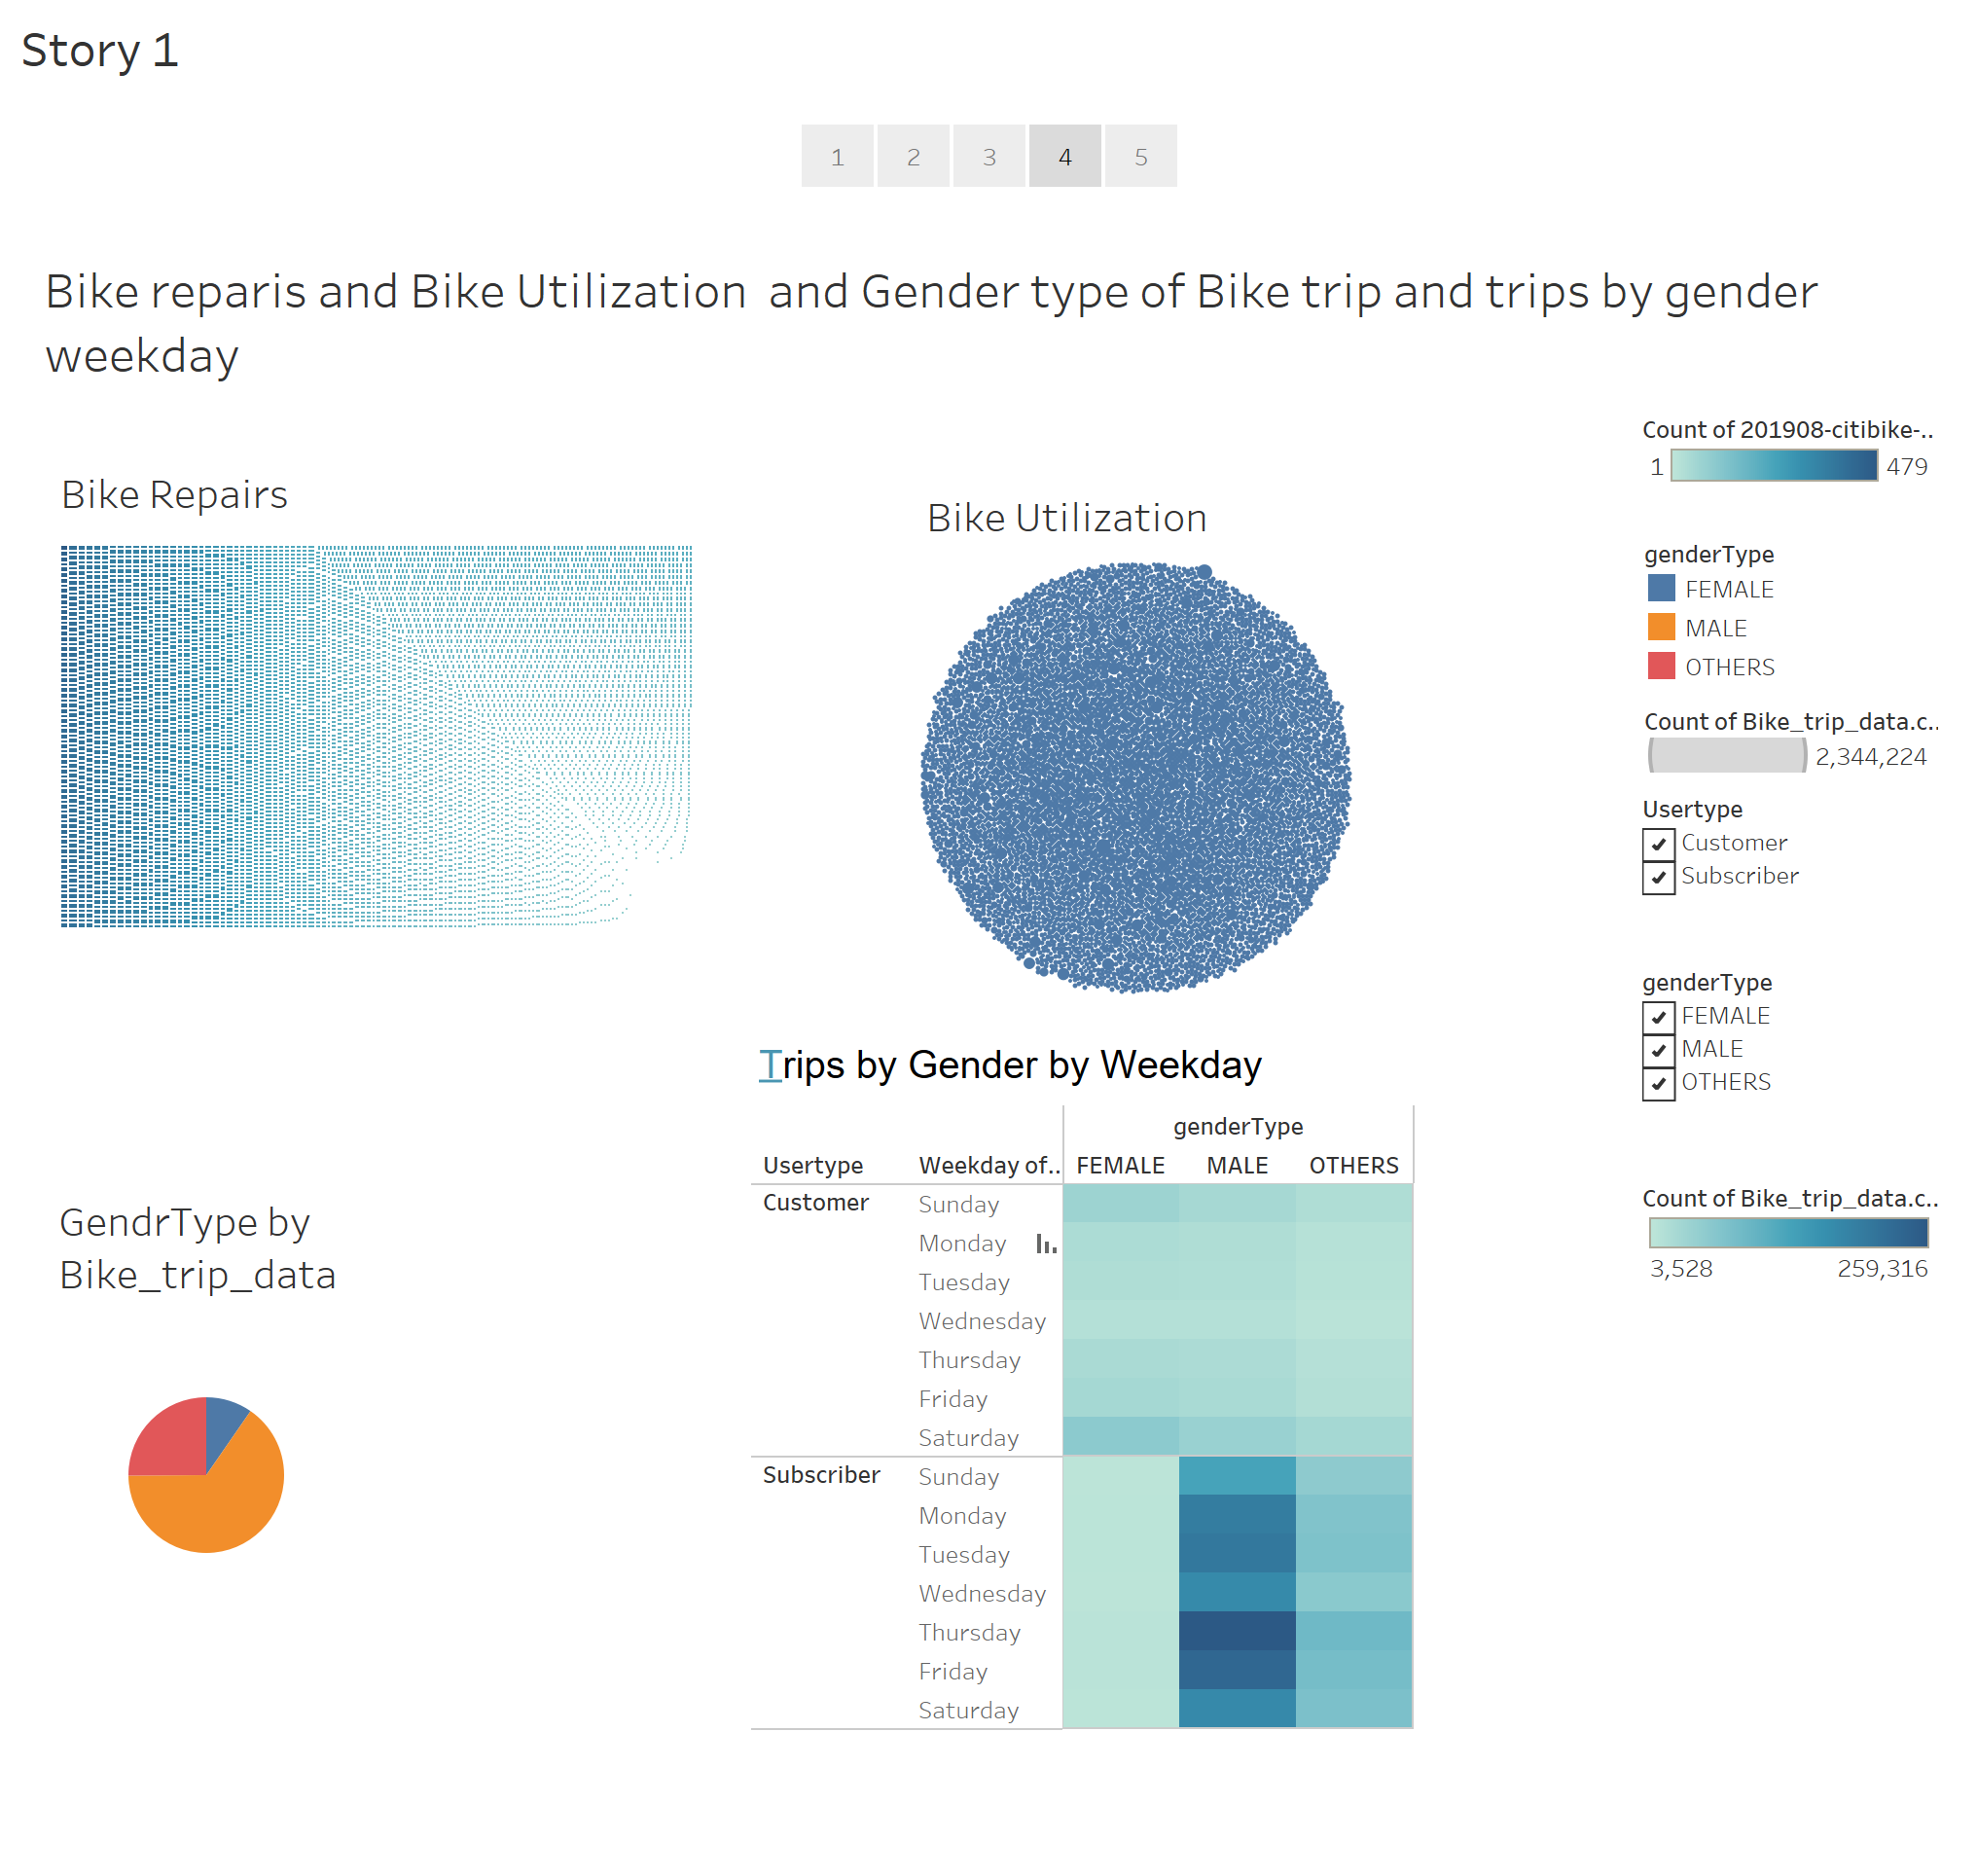

What the dashboard file says about the page in this screenshot:
{"tool":"tableau","page":{"name":"Dashboard 3","canvas":[1000,800],"ordinal":1},"visuals":[{"type":"title","box":[8,8,984,76]},{"type":"legend","title":"Bike Repairs","param":"[federated.1acw1kj05bwjck11ge73g0sis4ne].[__tableau_internal_object_id__].[cnt:2","box":[832,84,160,65]},{"type":"worksheet","title":"Bike Repairs","mark":"Automatic","box":[19,113,333,266]},{"type":"worksheet","title":"Bike Utilization","mark":"Circle","box":[464,125,333,266]},{"type":"legend","title":"GendrType by Bike_trip_data","param":"[federated.0sh5qbe05khlgq1078ack1fe3zx7].[none:Calculation_1169528547869159427:n","box":[832,149,160,86]},{"type":"legend","title":"GendrType by Bike_trip_data","param":"[federated.0sh5qbe05khlgq1078ack1fe3zx7].[__tableau_internal_object_id__].[cnt:B","box":[832,235,160,46]},{"type":"filter","title":"trips by gender weekday","param":"[federated.0sh5qbe05khlgq1078ack1fe3zx7].[none:usertype:nk]","box":[832,281,160,89]},{"type":"filter","title":"trips by gender weekday","param":"[federated.0sh5qbe05khlgq1078ack1fe3zx7].[none:Calculation_1169528547869159427:n","box":[832,370,160,108]},{"type":"worksheet","title":"trips by gender weekday","mark":"Automatic","rows":["usertype","starttime"],"cols":["Calculation_1169528547869159427"],"box":[378,410,583,379]},{"type":"legend","title":"trips by gender weekday","param":"[federated.0sh5qbe05khlgq1078ack1fe3zx7].[__tableau_internal_object_id__].[cnt:B","box":[832,478,160,65]},{"type":"worksheet","title":"GendrType by Bike_trip_data","mark":"Pie","box":[18,487,269,267]}]}

Visuals, with their boxes on the page's 1000x800 design canvas (x1, y1, x2, y2). These are canvas units, not pixel positions in the 1977x1876 screenshot, which may show the page scaled, cropped or inside an application window:
title: locate(8, 8, 992, 84)
"Bike Repairs" legend: locate(832, 84, 992, 149)
"Bike Repairs" worksheet: locate(19, 113, 352, 379)
"Bike Utilization" worksheet (Circle marks): locate(464, 125, 797, 391)
"GendrType by Bike_trip_data" legend: locate(832, 149, 992, 235)
"GendrType by Bike_trip_data" legend: locate(832, 235, 992, 281)
"trips by gender weekday" filter: locate(832, 281, 992, 370)
"trips by gender weekday" filter: locate(832, 370, 992, 478)
"trips by gender weekday" worksheet: locate(378, 410, 961, 789)
"trips by gender weekday" legend: locate(832, 478, 992, 543)
"GendrType by Bike_trip_data" worksheet (Pie marks): locate(18, 487, 287, 754)
